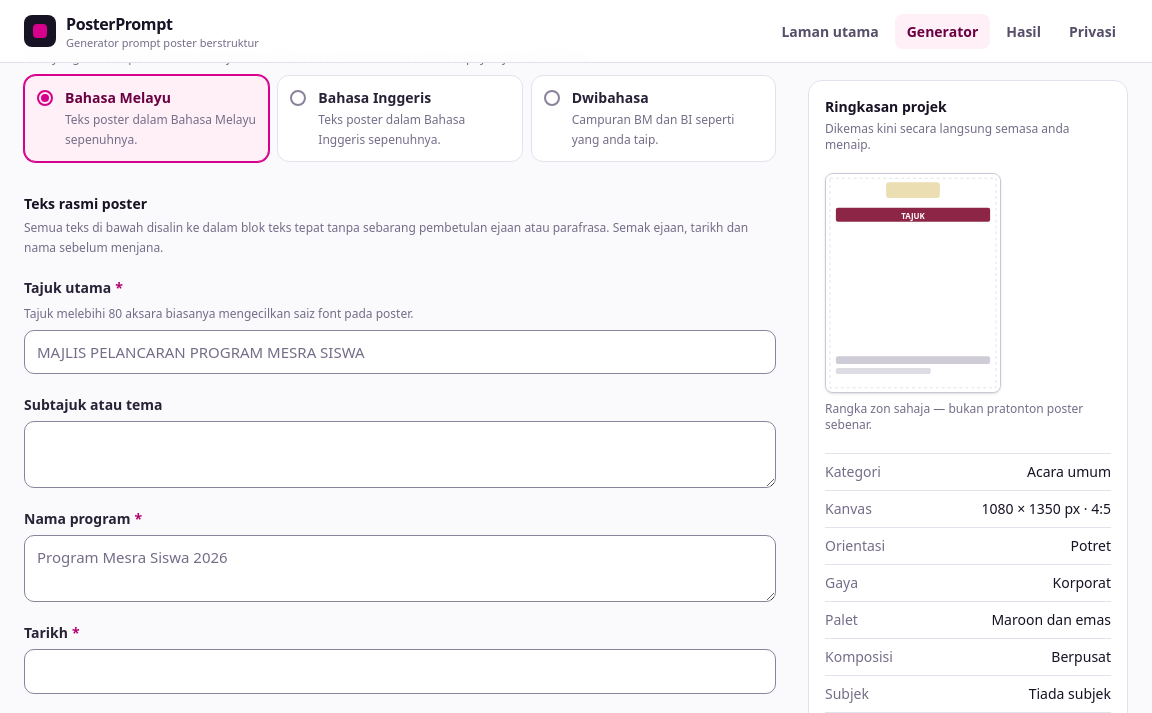
it: wizard — kembali menyunting tanpa kehilangan input (UAT-07, FR-019) › membenarkan lompatan terus melalui stepper ke langkah yang telah dilawati
(page scrolled)
Type "MAJLIS PERASMIAN" into the field labelled "Tajuk utama*" at (400, 352), box [24,330,776,374]
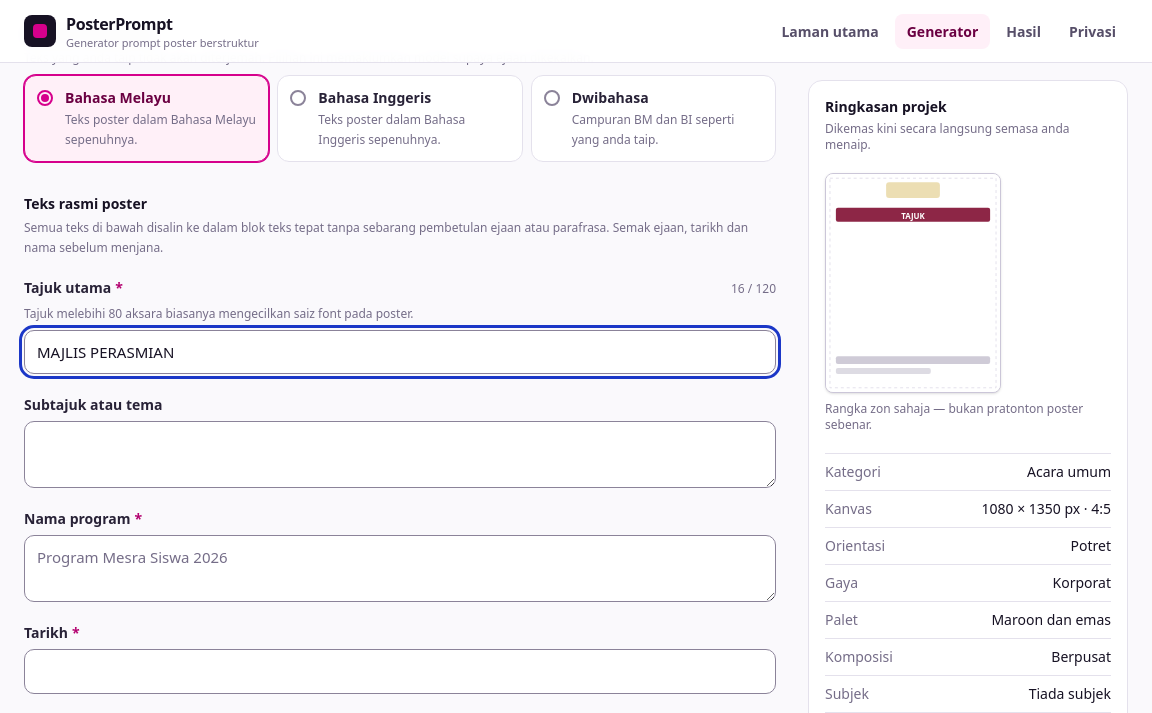
Type "Program Mesra Siswa" into the text box labelled "Nama program*" at (400, 569), box [24,535,776,602]
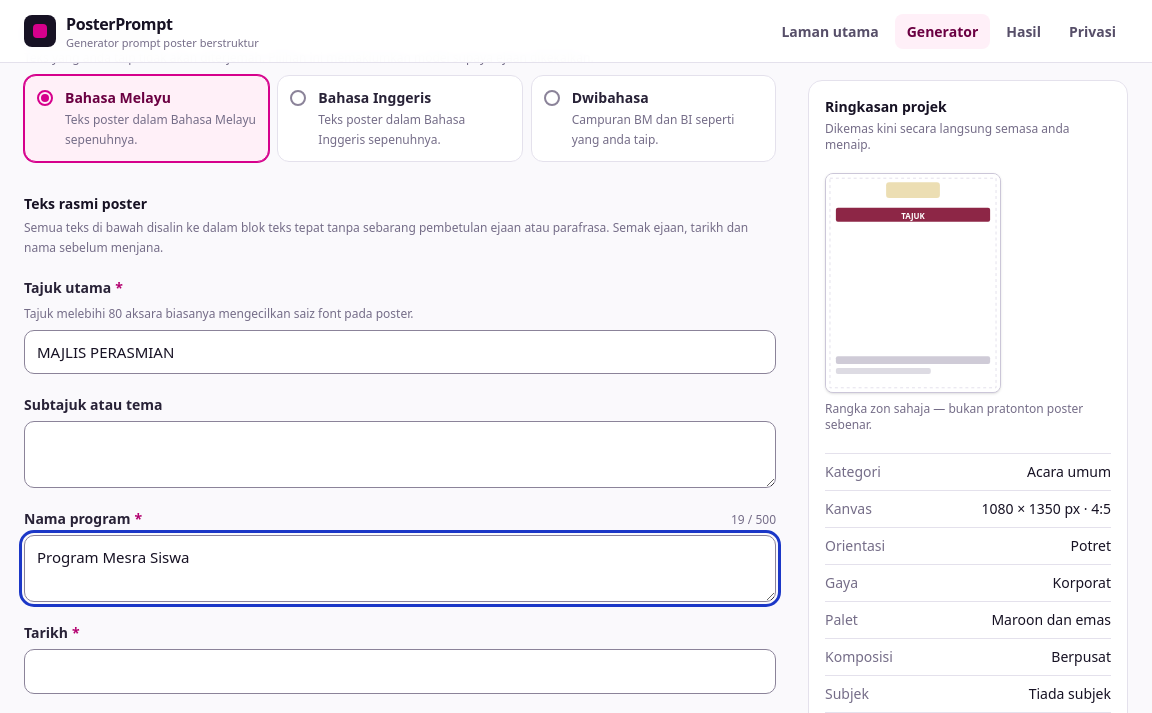
Type "1 September 2026" into the field labelled "Tarikh*" at (400, 672), box [24,649,776,694]
(page scrolled)
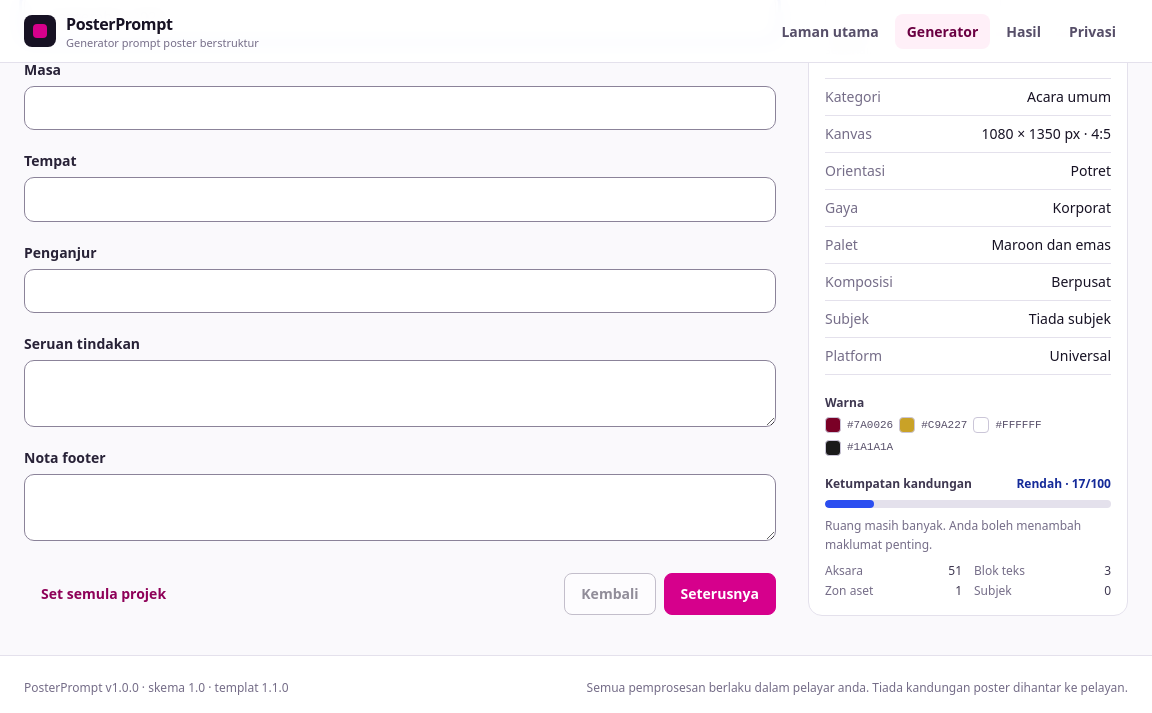
Click the button "Seterusnya" at (720, 594), box [664,573,776,615]
(page scrolled)
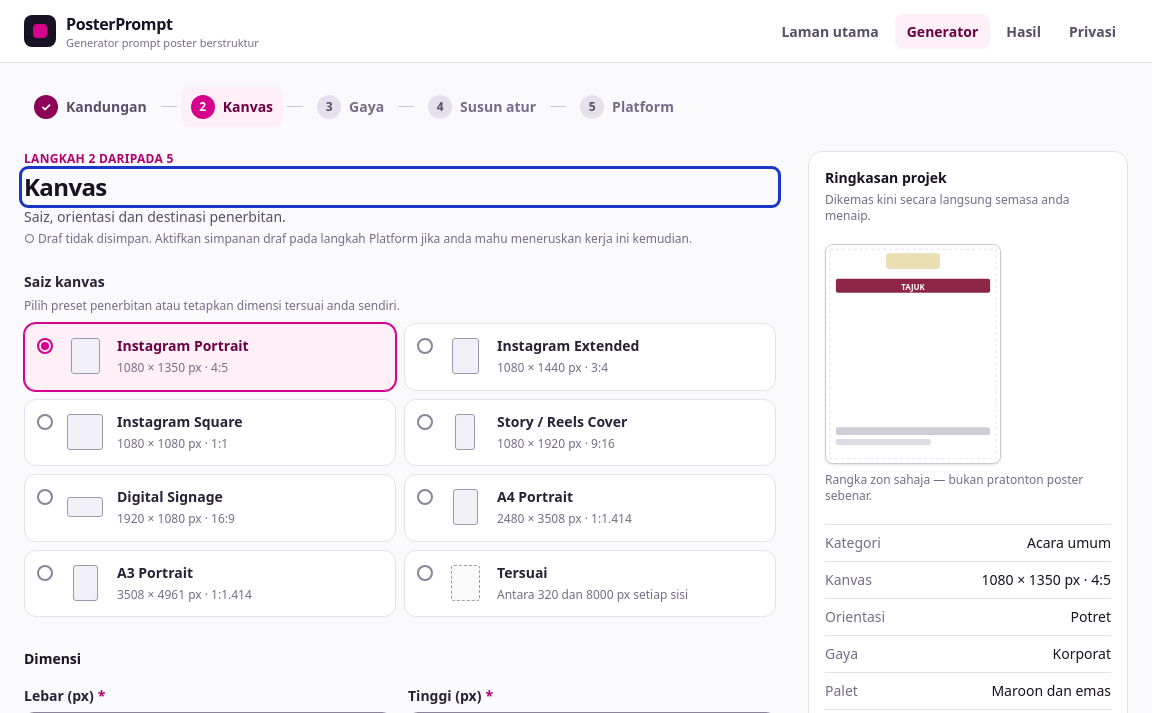
Check: the heading "Kanvas" is shown, box [24,170,107,203]
Click the button with aria-label "Langkah 1: Kandungan" at (90, 107), box [24,87,157,127]
(page scrolled)
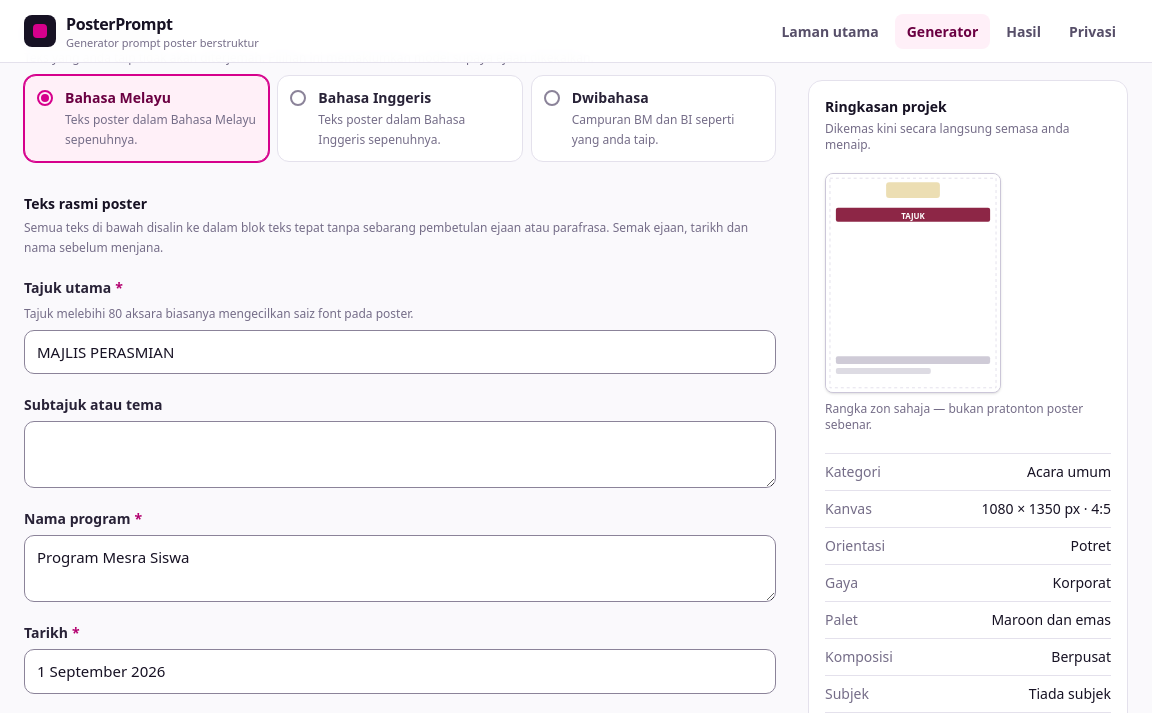
Check: the field labelled "Tajuk utama*" holds "MAJLIS PERASMIAN", box [24,330,776,374]
